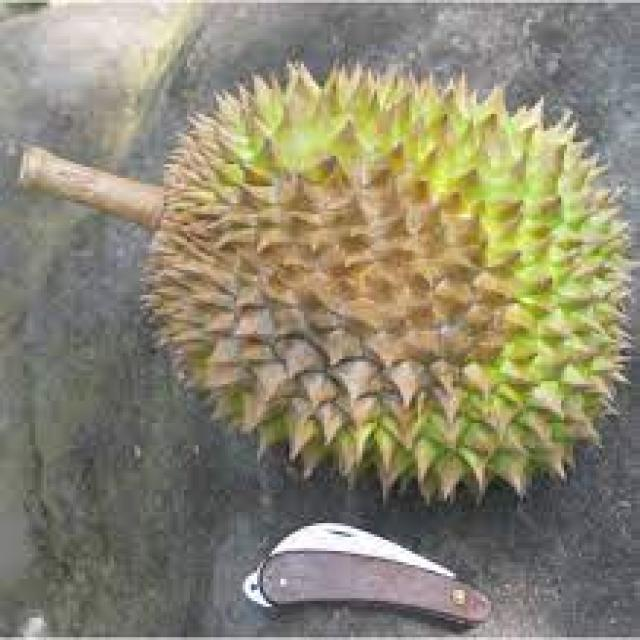defective: (127, 43, 640, 512)
